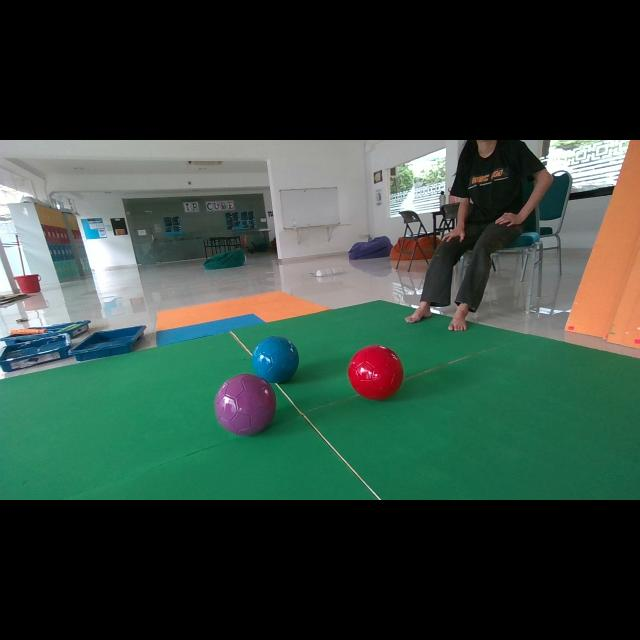B: (251, 336, 299, 382)
P: (215, 374, 276, 435)
R: (348, 345, 404, 400)
